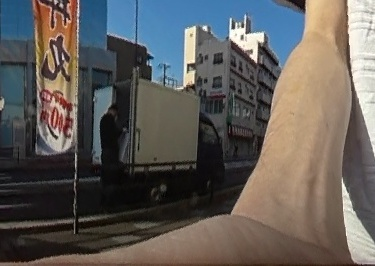person: (98, 102, 129, 213)
